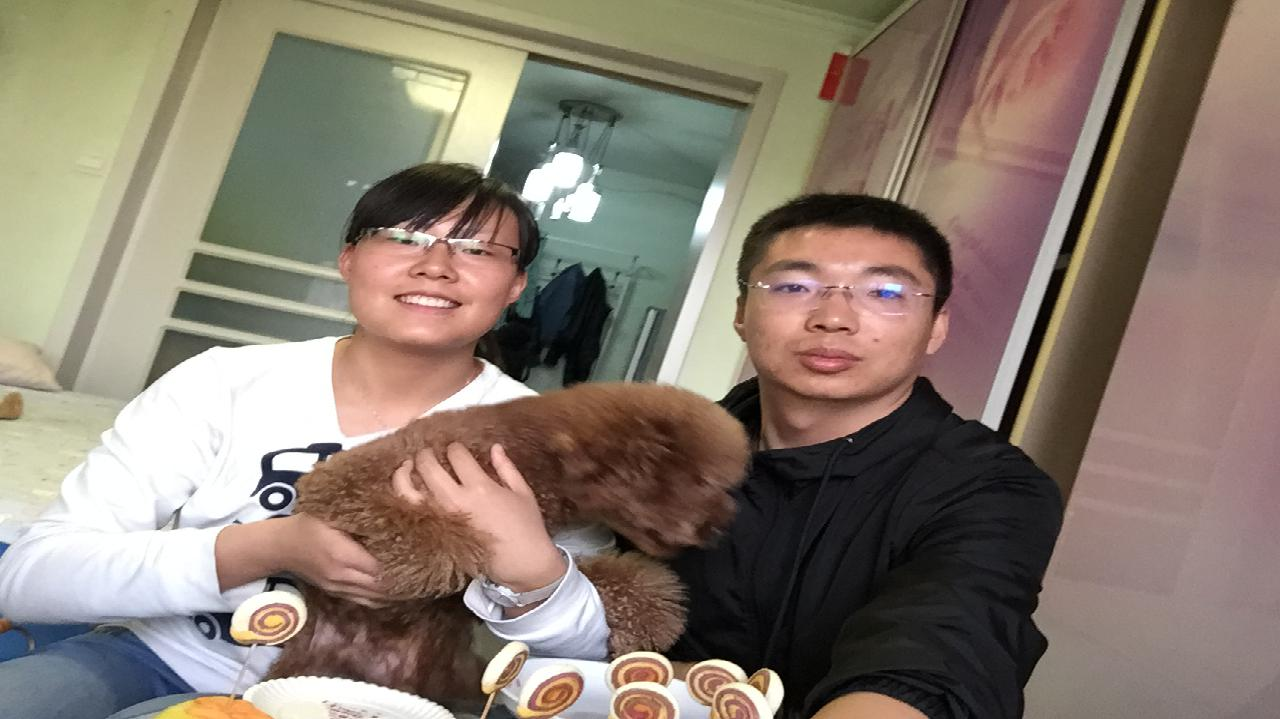zhuangzhuang: (289, 374, 743, 657)
